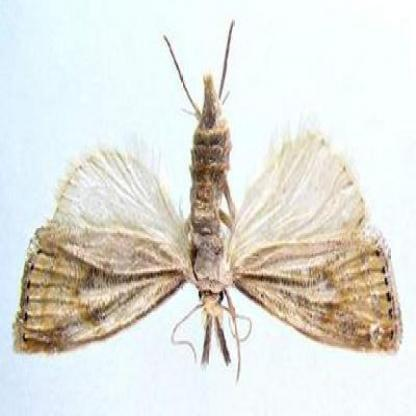stem-borer: (12, 18, 404, 384)
